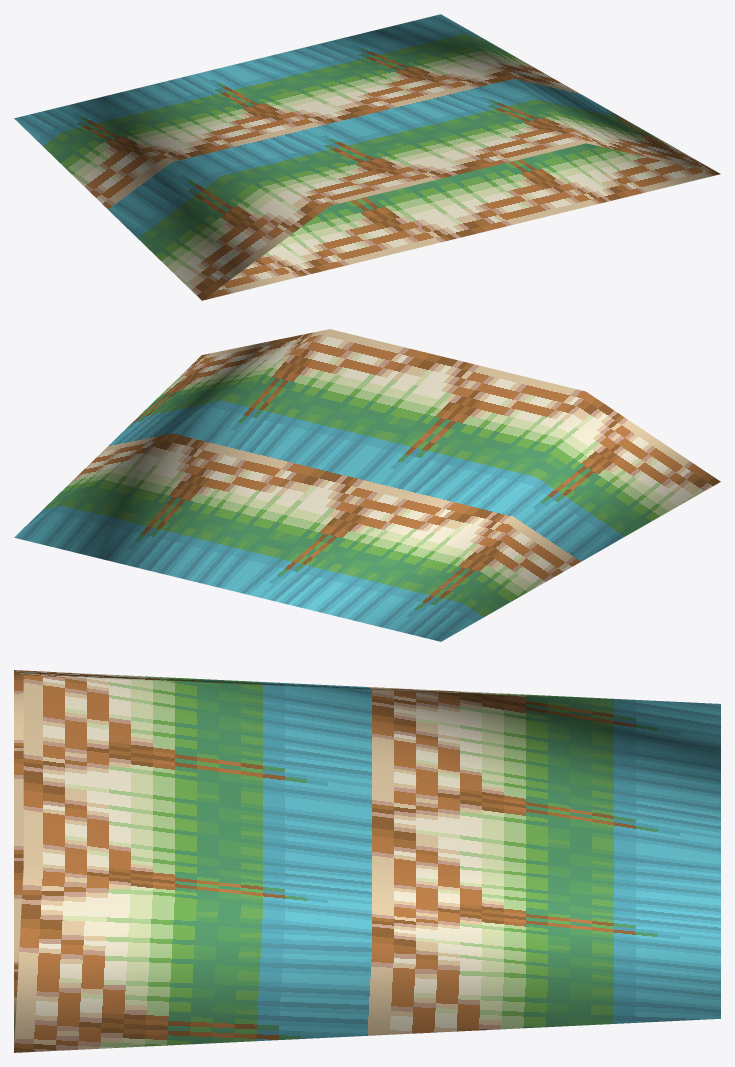
The model's file is 2355skirt00_c.gltf.
3 renders of one model, top to bottom at view 1: azimuth 30°, elevation 25°; view 2: azimuth 150°, elevation 25°; view 3: azimuth 270°, elevation 25°, orthographic. The views are drawn at different scales.
Parts seen in each view (by area): view 1: 2355skirt00_c; view 2: 2355skirt00_c; view 3: 2355skirt00_c.
Part boxes in pixels (<box>): 2355skirt00_c: <box>14,14,720,300</box>; 2355skirt00_c: <box>14,329,720,641</box>; 2355skirt00_c: <box>14,670,720,1052</box>.
Bounding box in the file's own units: 0.7896 × 0.0879 × 0.6162.
1 material, 1 textured.
